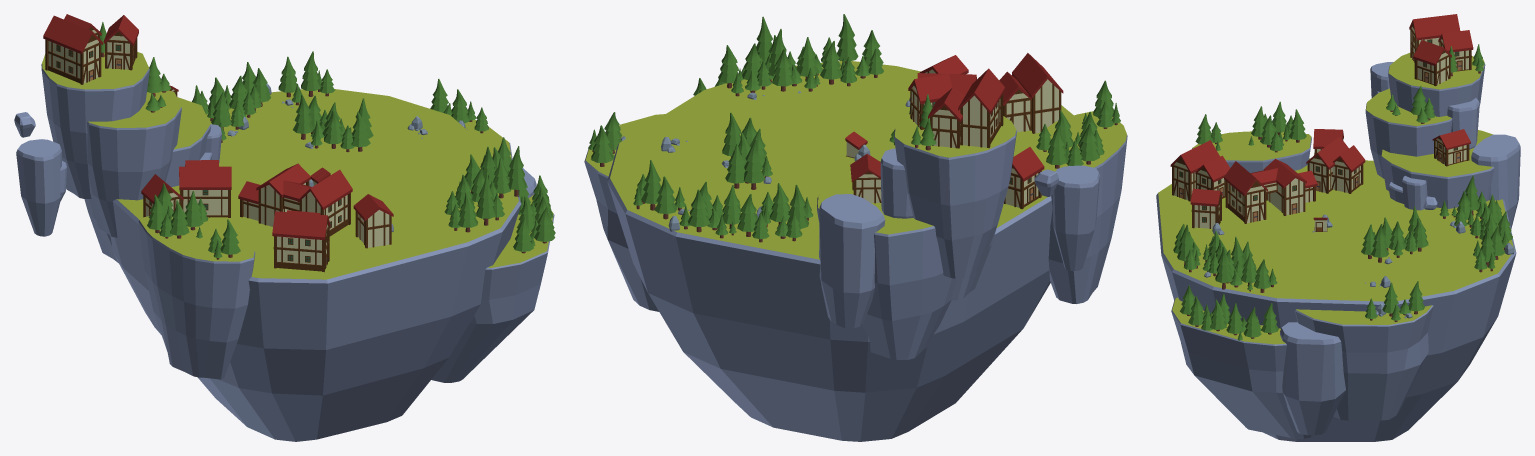
The model's file is MilitaryBase.fbx.
3 views of the same model, side by side, from view 1: azimuth 30°, elevation 25°; view 2: azimuth 150°, elevation 25°; view 3: azimuth 270°, elevation 25° (orthographic). The views are drawn at different scales.
Visible parts, largest first — view 1: _Terrain, background.001, background, foreground, House.003, Cylinder.018, Rock.009, House.005, Cylinder.045, House.001, House.006, House; view 2: _Terrain, background.001, background, Rock.009, Cylinder.018, foreground, House.005, Cylinder.045, House, House.006, House.003; view 3: _Terrain, foreground, background.001, background, House.003, Rock.009, Cylinder.018, House.005, House.001, Cylinder.045, House.006, House.
Boxes of the visible parts, box(x1,y1,x2,y2) form: _Terrain: box(110, 89, 521, 441); background.001: box(14, 14, 221, 263); background: box(138, 183, 255, 379); foreground: box(430, 79, 555, 382); House.003: box(238, 163, 352, 236); Cylinder.018: box(192, 51, 334, 142); Rock.009: box(444, 137, 526, 232); House.005: box(272, 210, 330, 272); Cylinder.045: box(293, 94, 373, 152); House.001: box(179, 160, 231, 217); House.006: box(353, 194, 393, 248); House: box(141, 174, 183, 217); _Terrain: box(607, 61, 1073, 441); background.001: box(817, 68, 1099, 359); background: box(1028, 80, 1127, 303); Rock.009: box(718, 14, 883, 99); Cylinder.018: box(633, 160, 813, 242); foreground: box(584, 67, 744, 311); House.005: box(999, 53, 1063, 133); Cylinder.045: box(721, 112, 772, 189); House: box(1004, 147, 1044, 209); House.006: box(919, 55, 968, 74); House.003: box(917, 73, 976, 98); _Terrain: box(1156, 158, 1516, 441); foreground: box(1171, 281, 1433, 439); background.001: box(1365, 14, 1520, 228); background: box(1192, 101, 1311, 172); House.003: box(1224, 159, 1317, 223); Rock.009: box(1173, 224, 1277, 292); Cylinder.018: box(1439, 175, 1514, 272); House.005: box(1170, 140, 1229, 201); House.001: box(1306, 136, 1365, 193); Cylinder.045: box(1361, 206, 1428, 264); House.006: box(1190, 188, 1222, 228); House: box(1313, 129, 1343, 155).
Bounding box in the file's own units: 13162 × 10103 × 10453.
